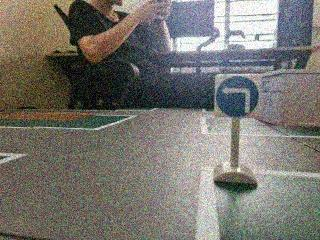left: (215, 74, 262, 120)
